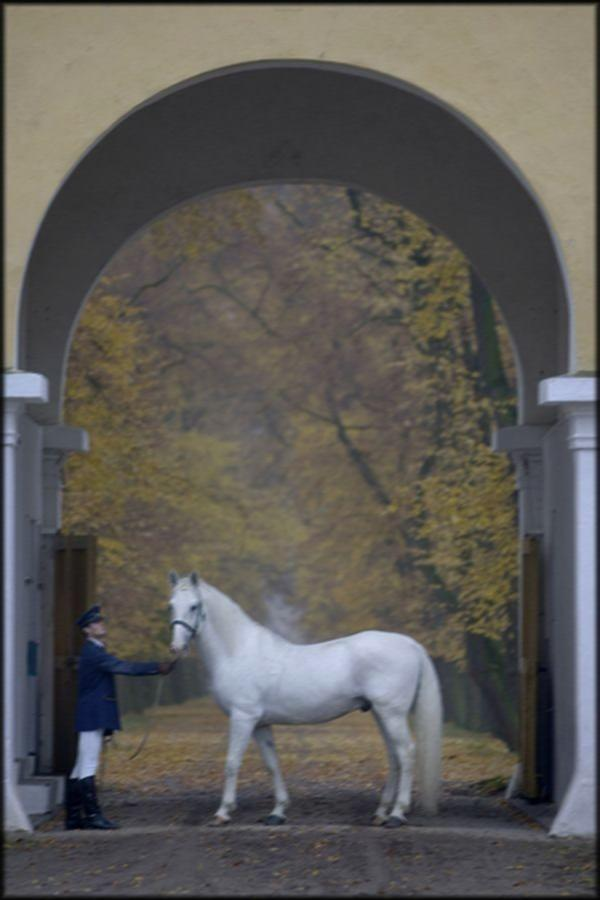horse: (165, 567, 444, 828)
